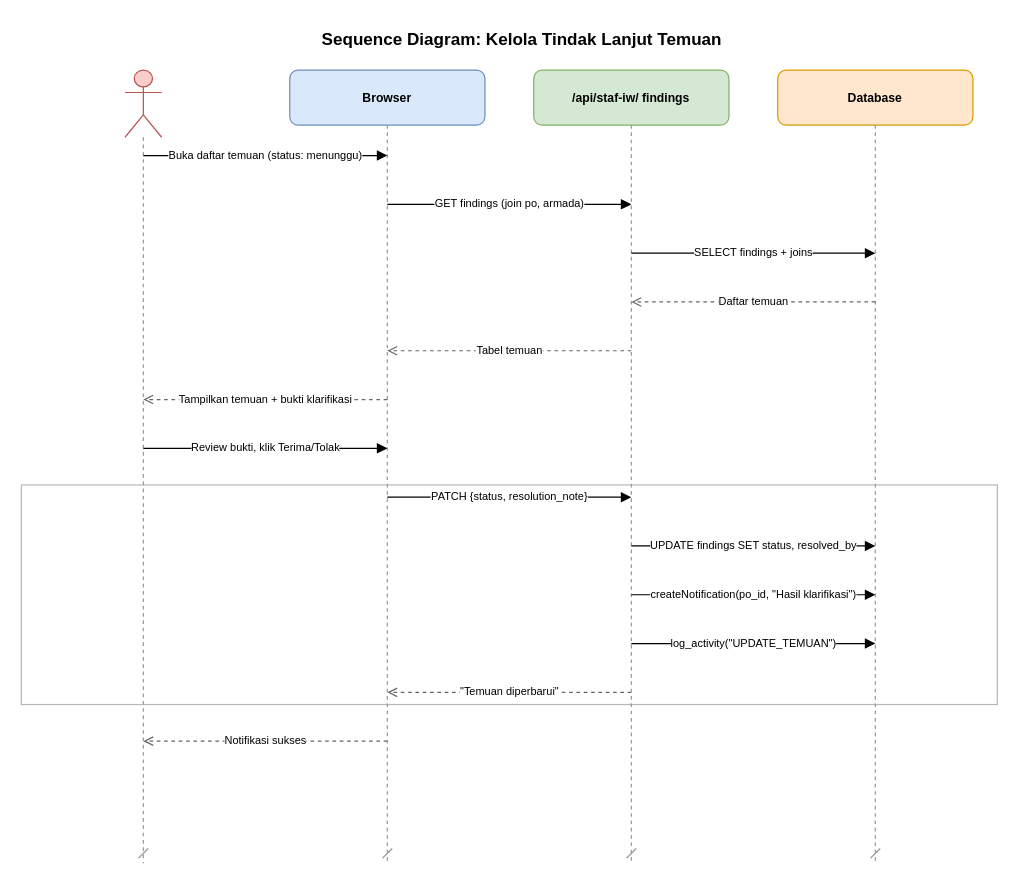
Some shapes in this 1019 by 894 pixel diagram are drawn without their labels. The centre of each missing label's shape, as x and y in pixels:
alt: Terima: status="closed" / Tolak: "Pelanggaran Valid": the point at 508,594
Staf IW: the point at 143,103
